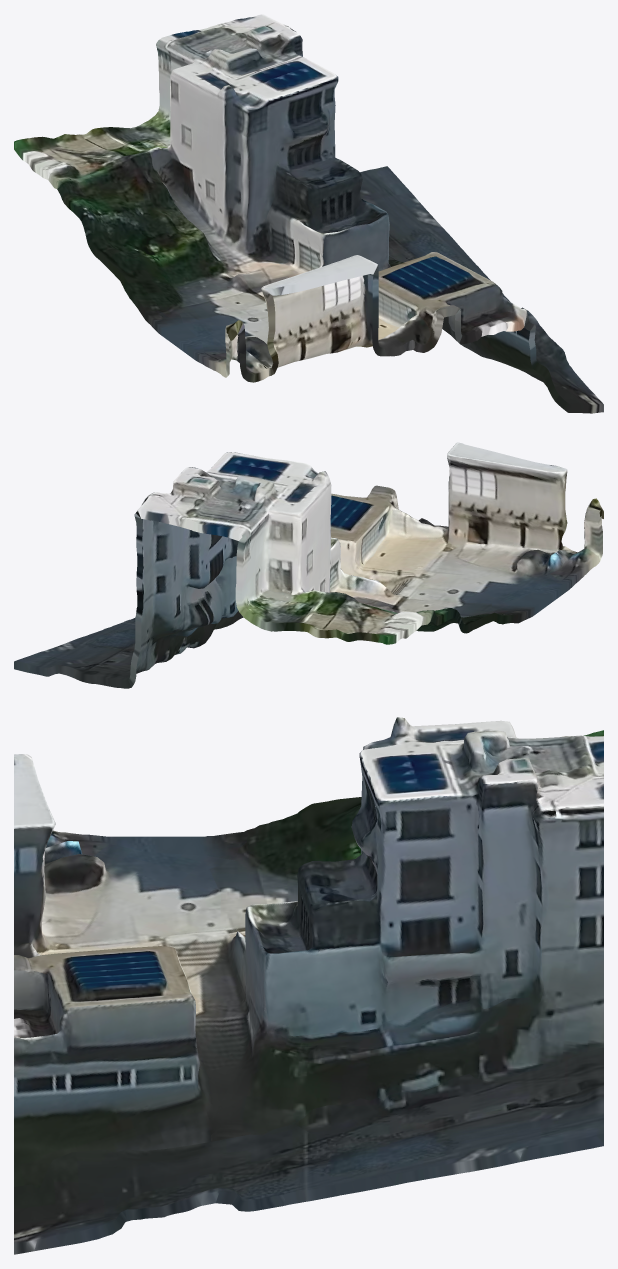
File: z20-167716-405193-h0-yup-uvflip-v3-world.glb
The picture shows the model from 3 angles, top to bottom: view 1: azimuth 30°, elevation 25°; view 2: azimuth 150°, elevation 25°; view 3: azimuth 270°, elevation 25°; orthographic projection. The views are drawn at different scales.
Size of the model in its own units: 30.16 by 21.96 by 30.32.
Materials: 1 (1 with a texture image).
